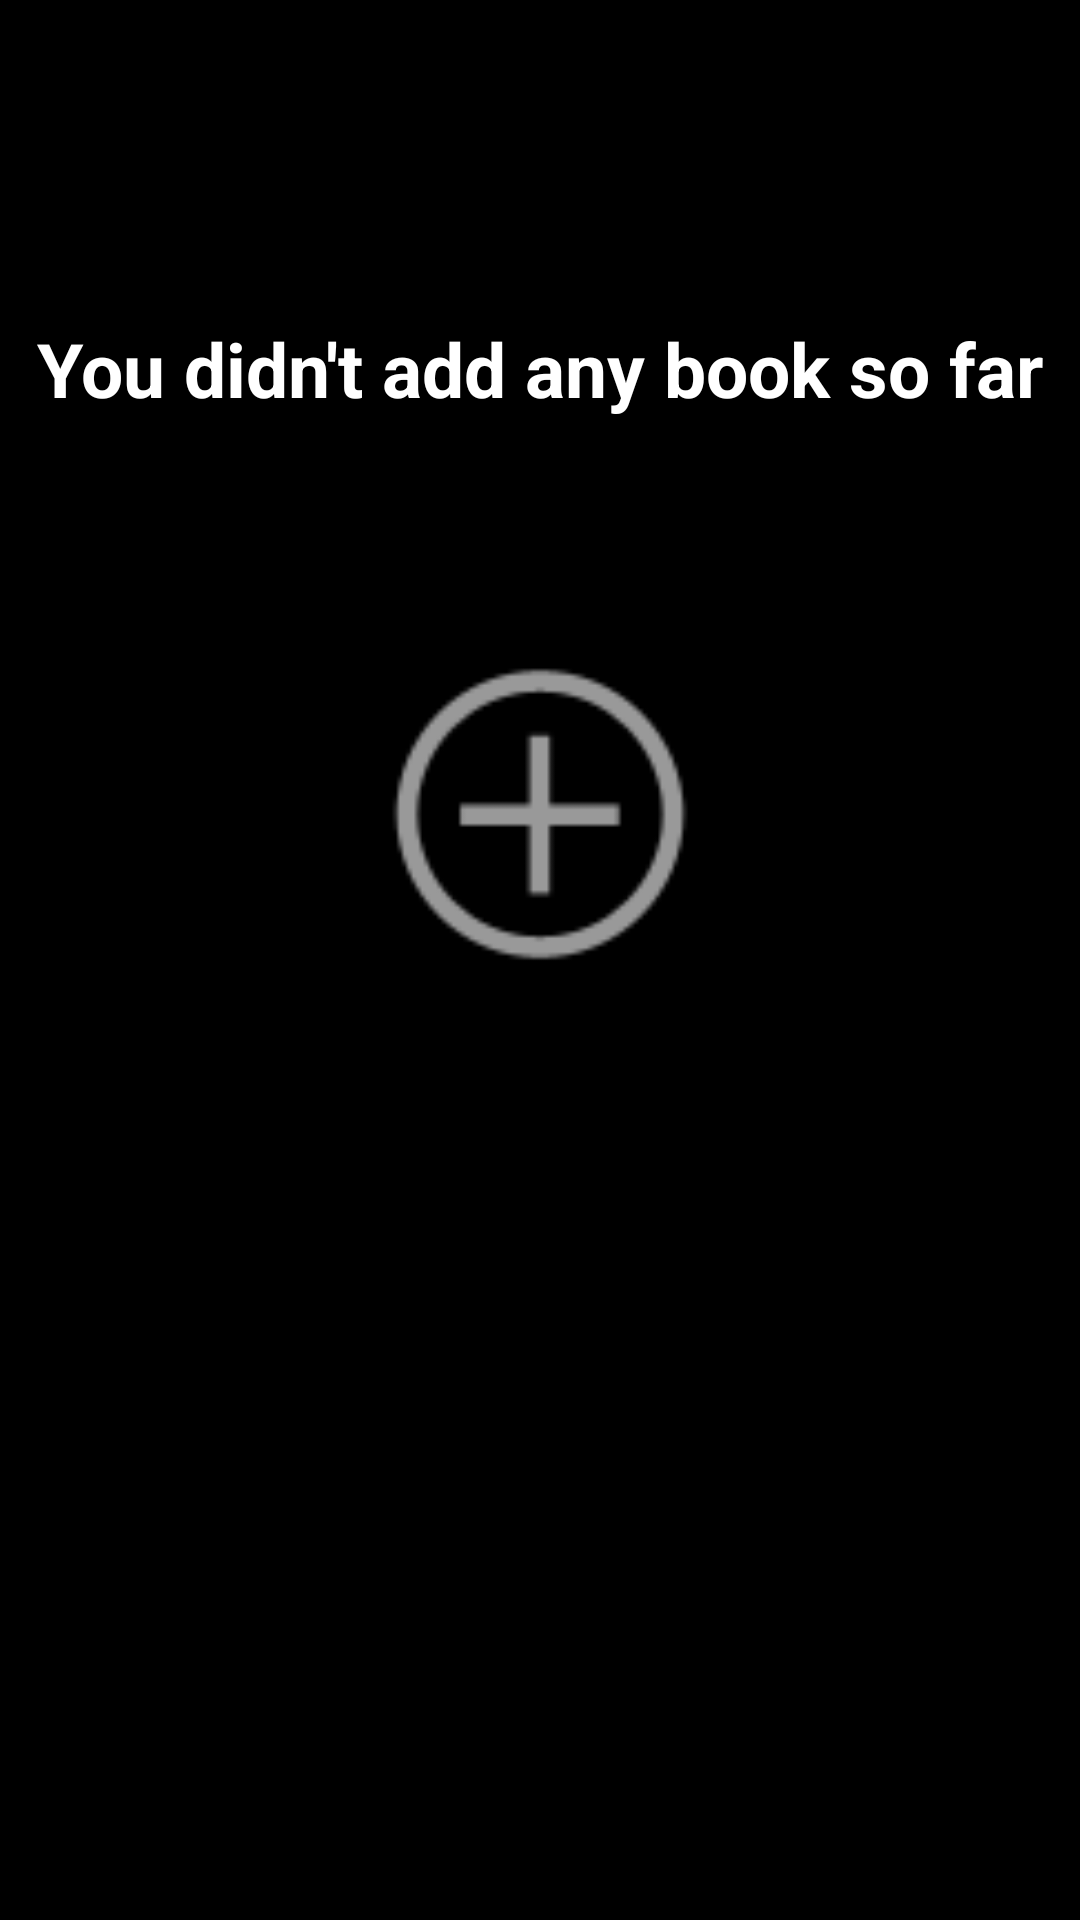

Locate icon controls on the screen. Image size 1080px×1920px, boxes as (x1, y1, x2, y2).
add: (394, 669, 686, 960)
